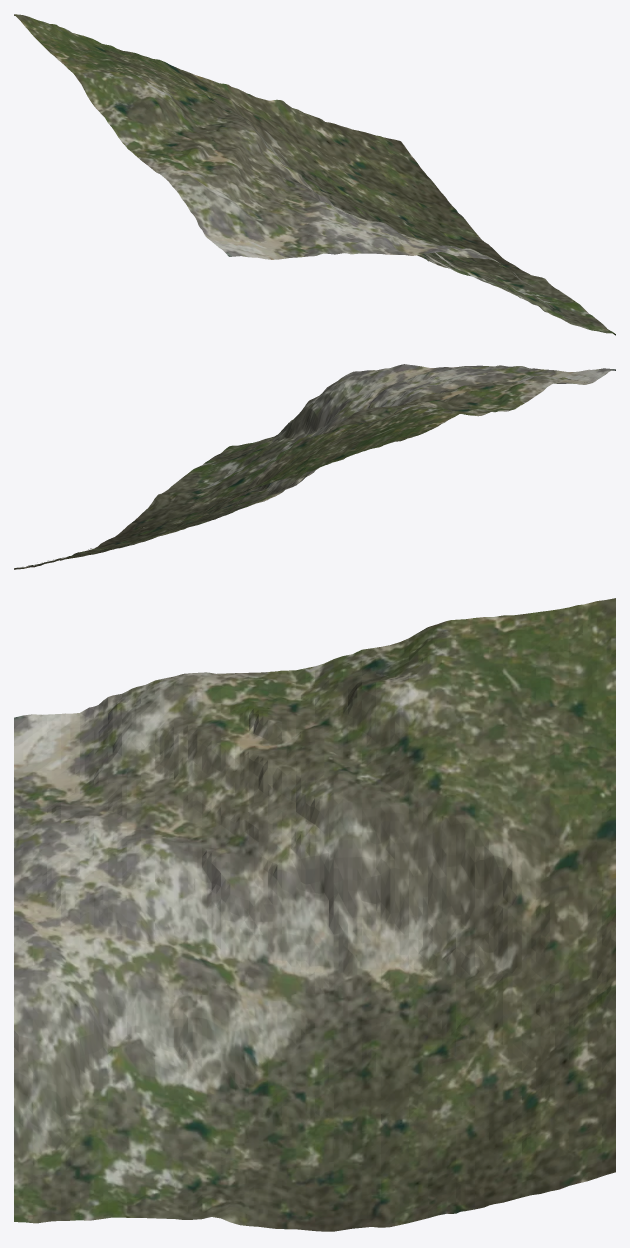
The picture shows the model from 3 angles, top to bottom: view 1: azimuth 30°, elevation 25°; view 2: azimuth 150°, elevation 25°; view 3: azimuth 270°, elevation 25°; orthographic projection. The views are drawn at different scales.
Bounding box in the file's own units: 250 × 164 × 241.
1 material, 1 textured.
